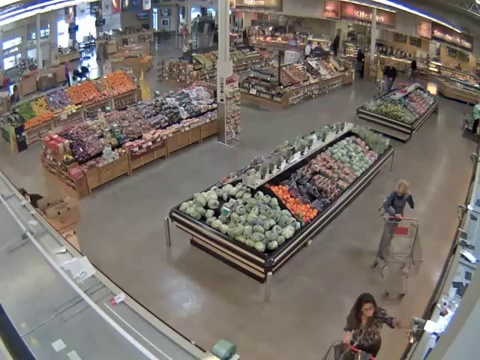face: (362, 303, 376, 317)
